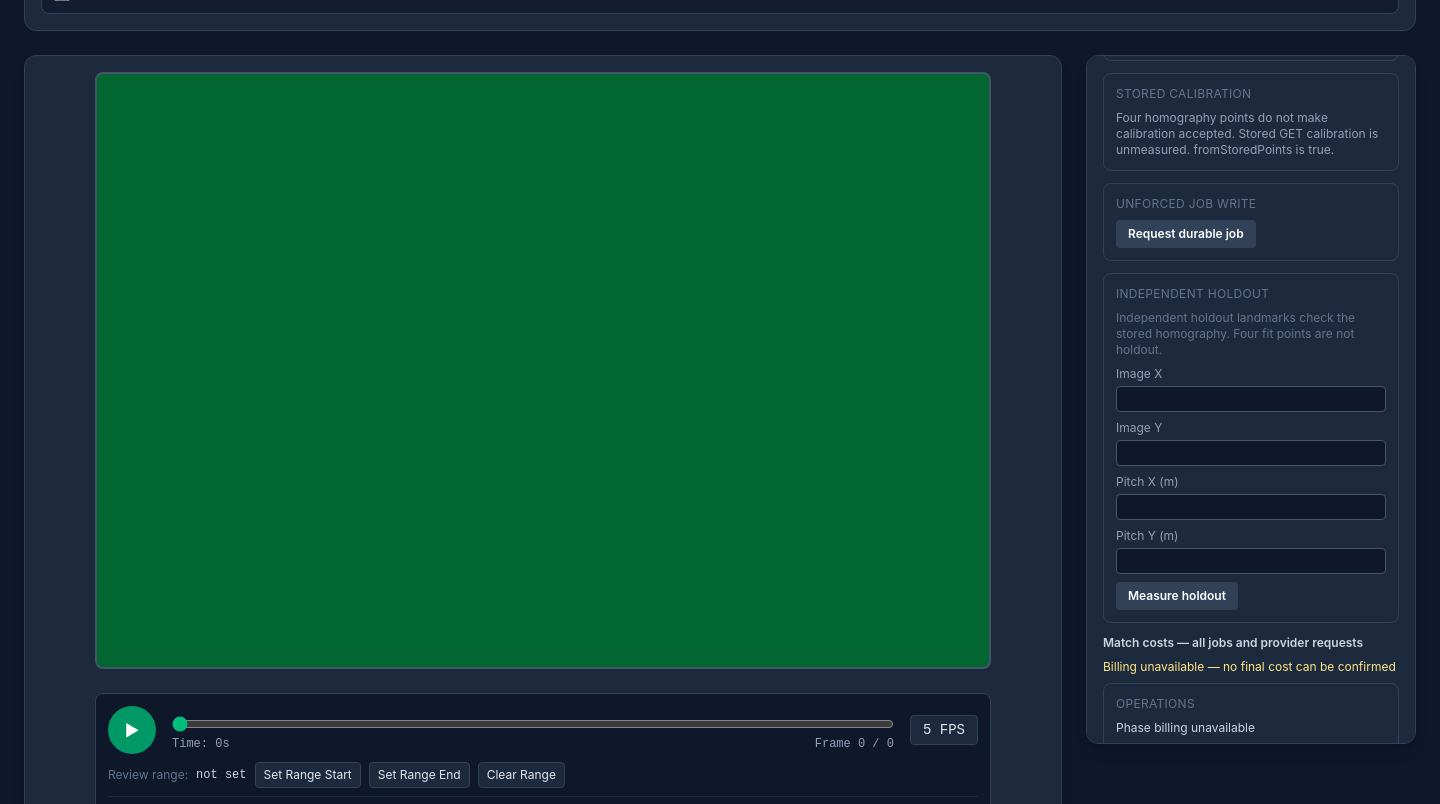
Test: App leftover contract workbench › submits independent holdout landmarks on the loaded match without client acceptance
(page scrolled)
Type "50" into the field labelled "Image X".
click(1251, 399); type("50")  # box 1116,386 -> 1386,412
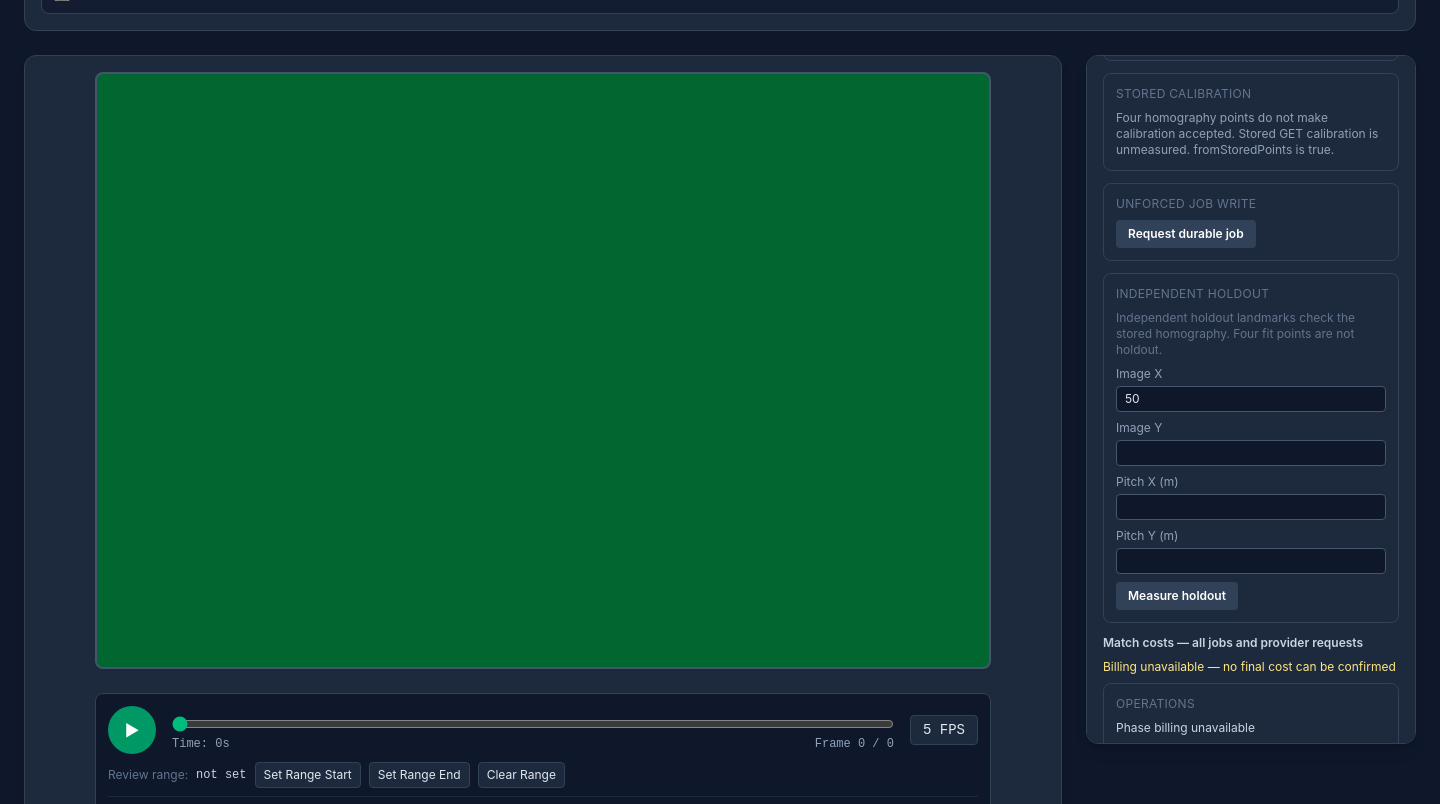
Type "50" into the field labelled "Image Y".
click(1251, 453); type("50")  # box 1116,440 -> 1386,466
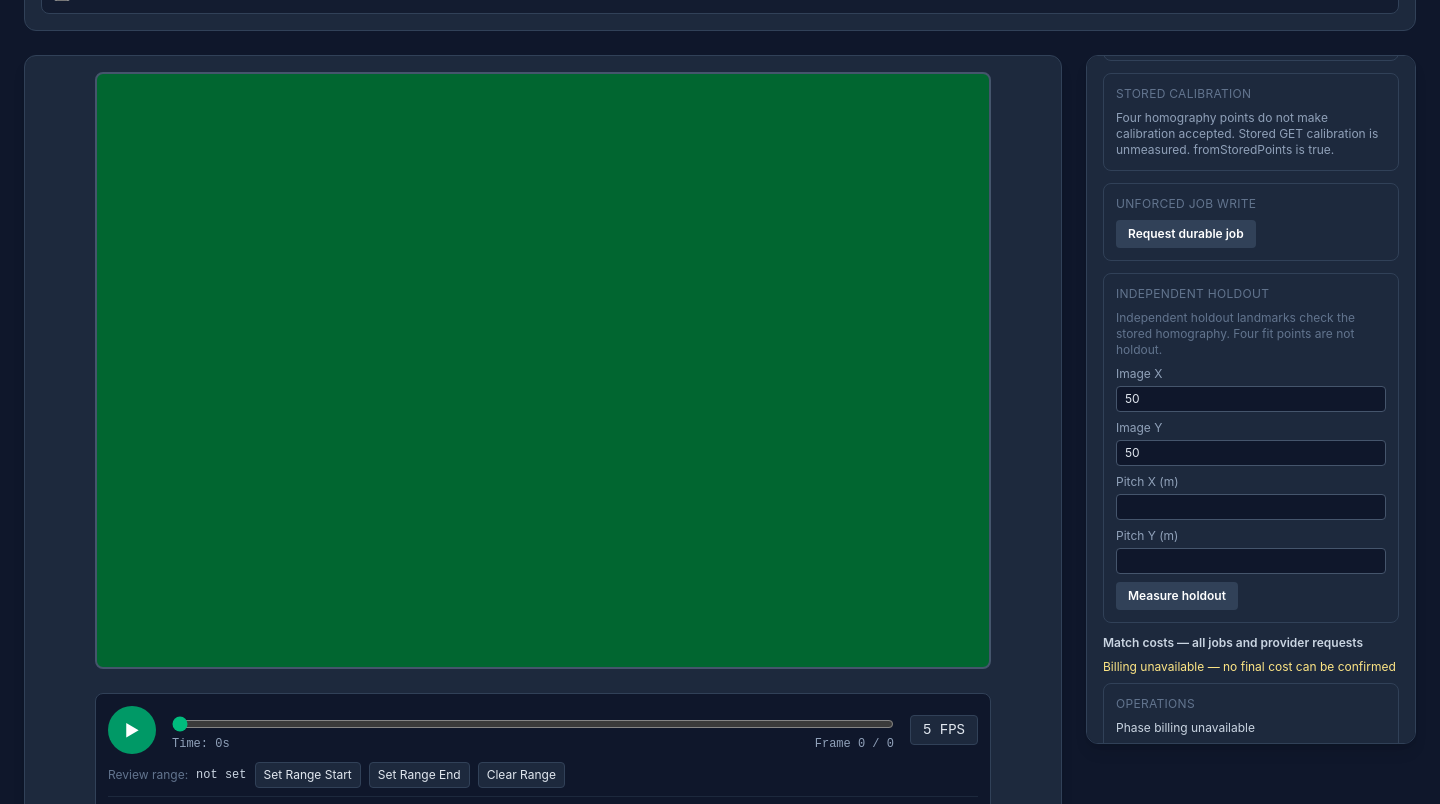
Type "52.5" into the field labelled "Pitch X (m)".
click(1251, 507); type("52.5")  # box 1116,494 -> 1386,520
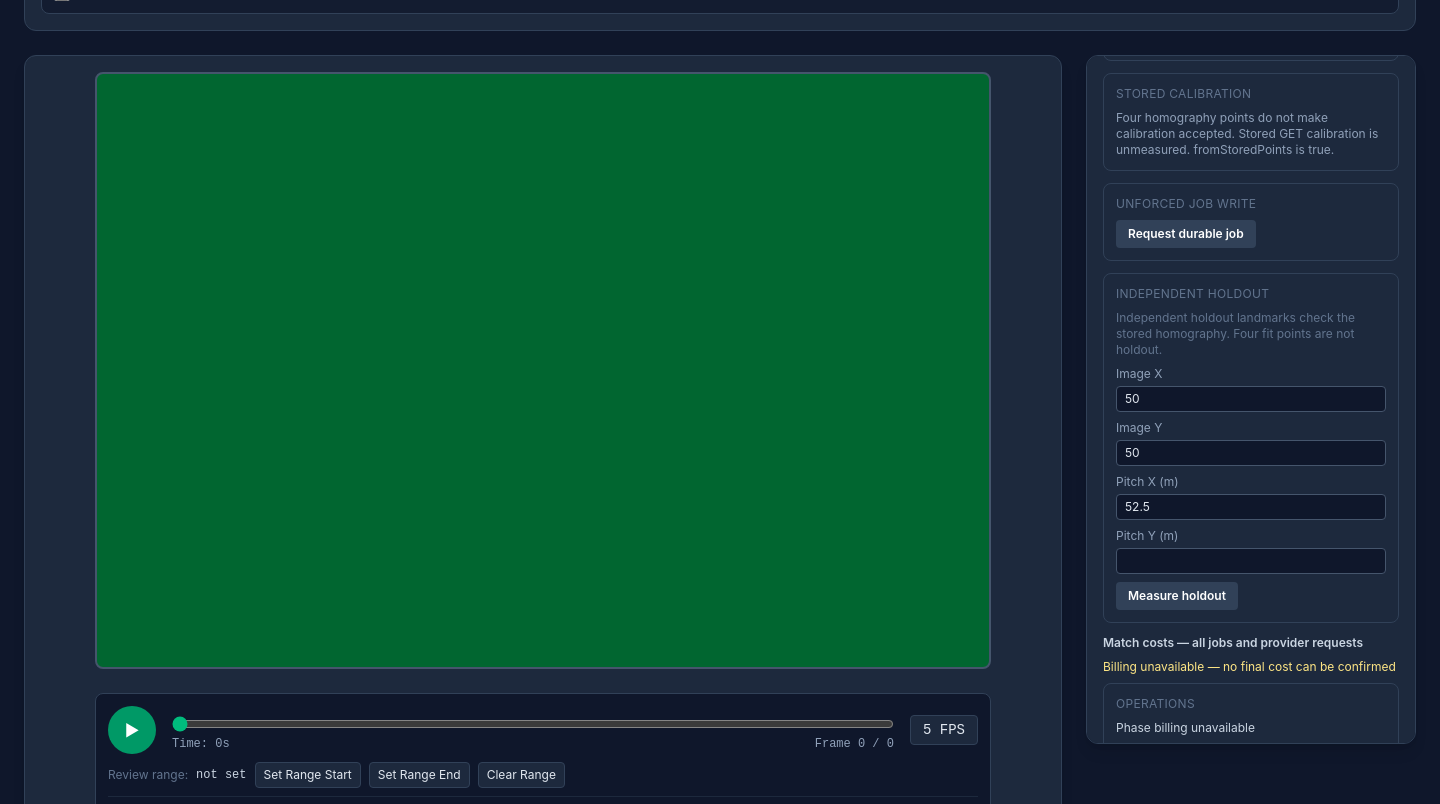
Type "34" into the field labelled "Pitch Y (m)".
click(1251, 561); type("34")  # box 1116,548 -> 1386,574
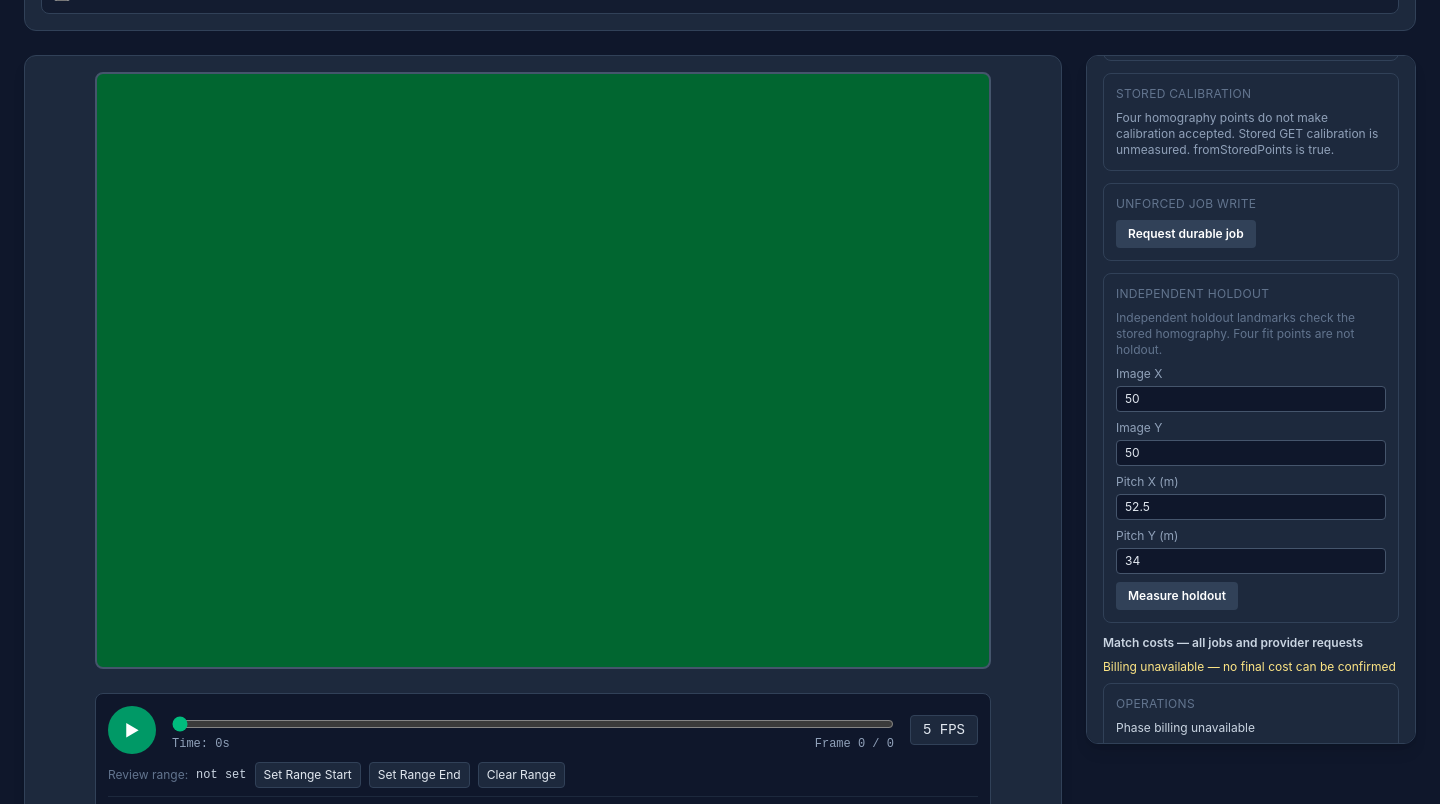
Click the button "Measure holdout".
click(1177, 596)  # box 1116,582 -> 1238,610
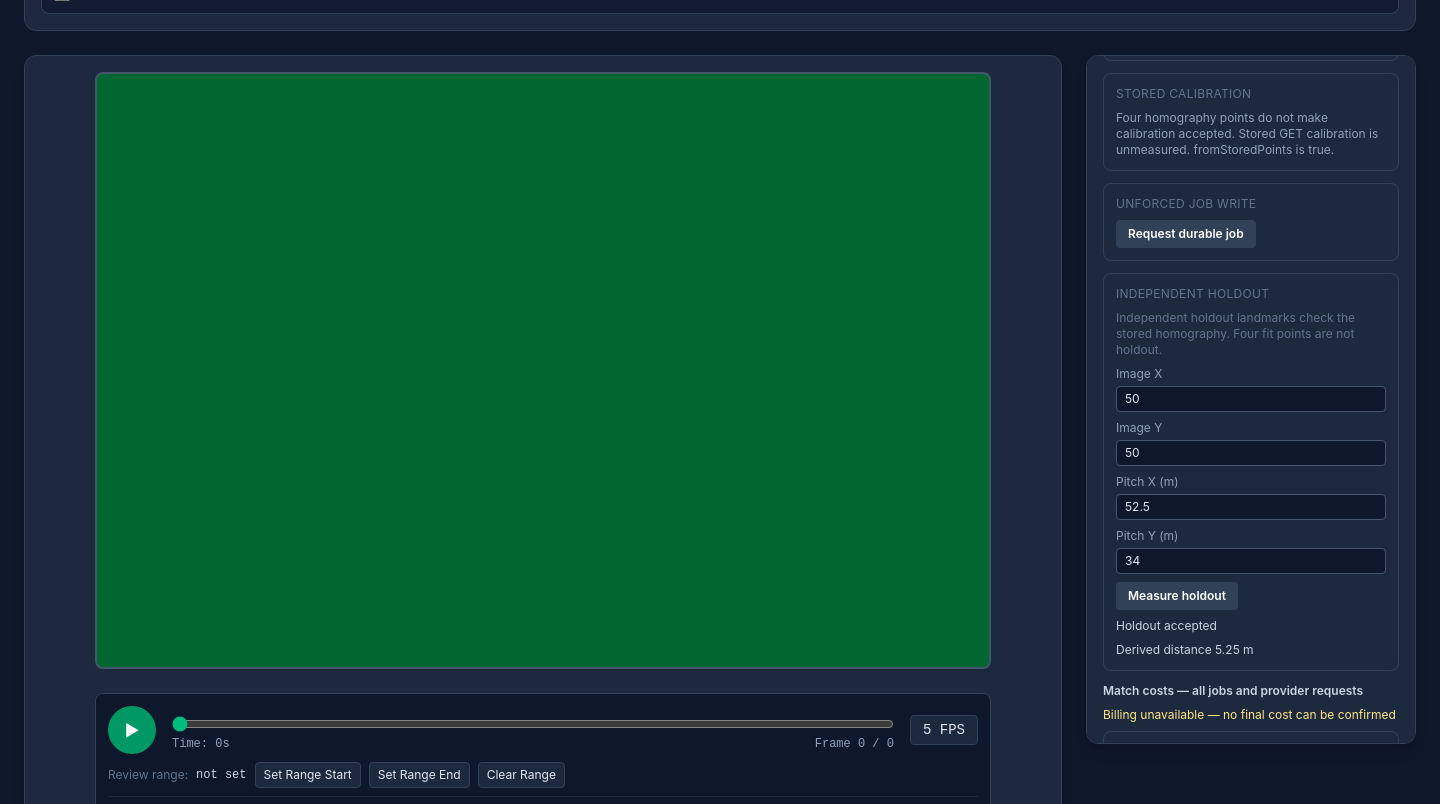
Expected: the text "Holdout accepted" is shown, 1116,618 -> 1217,633
Expected: the text "Derived distance 5.25 m" is shown, 1116,642 -> 1254,657
